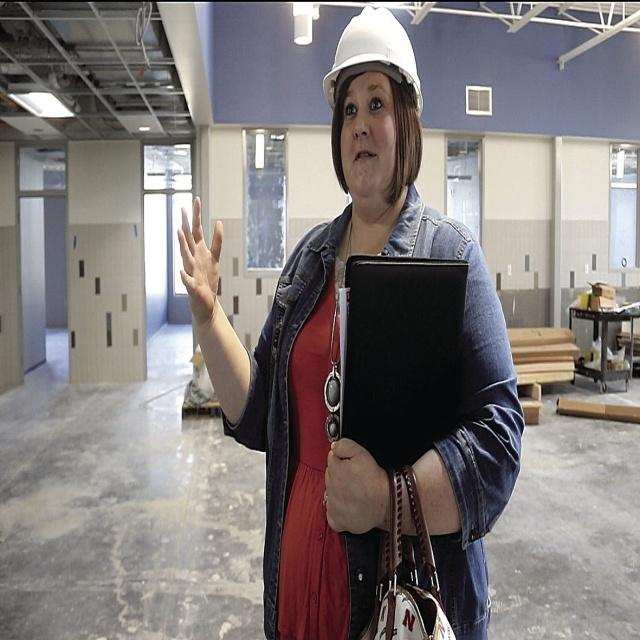helmet: (323, 7, 426, 289)
